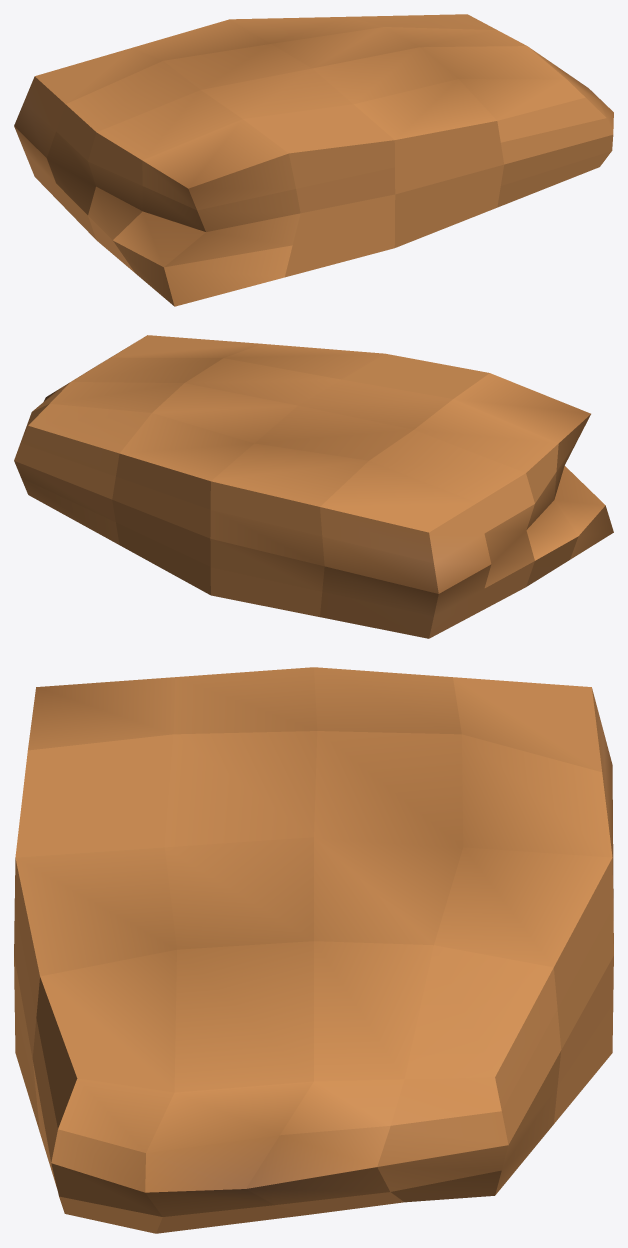
File: Rock_Desert01.fbx
3 renders of one model, top to bottom at view 1: azimuth 30°, elevation 25°; view 2: azimuth 150°, elevation 25°; view 3: azimuth 270°, elevation 25°, orthographic. The views are drawn at different scales.
Visible parts, largest first — view 1: Rock_Desert01_LOD0; view 2: Rock_Desert01_LOD0; view 3: Rock_Desert01_LOD0.
Part boxes in pixels (x1,y1,x2,y2): Rock_Desert01_LOD0: (14, 14, 613, 306); Rock_Desert01_LOD0: (14, 335, 613, 638); Rock_Desert01_LOD0: (14, 667, 613, 1233).
Size of what is drawn, in the model's own units: 107 by 28.33 by 62.95.
